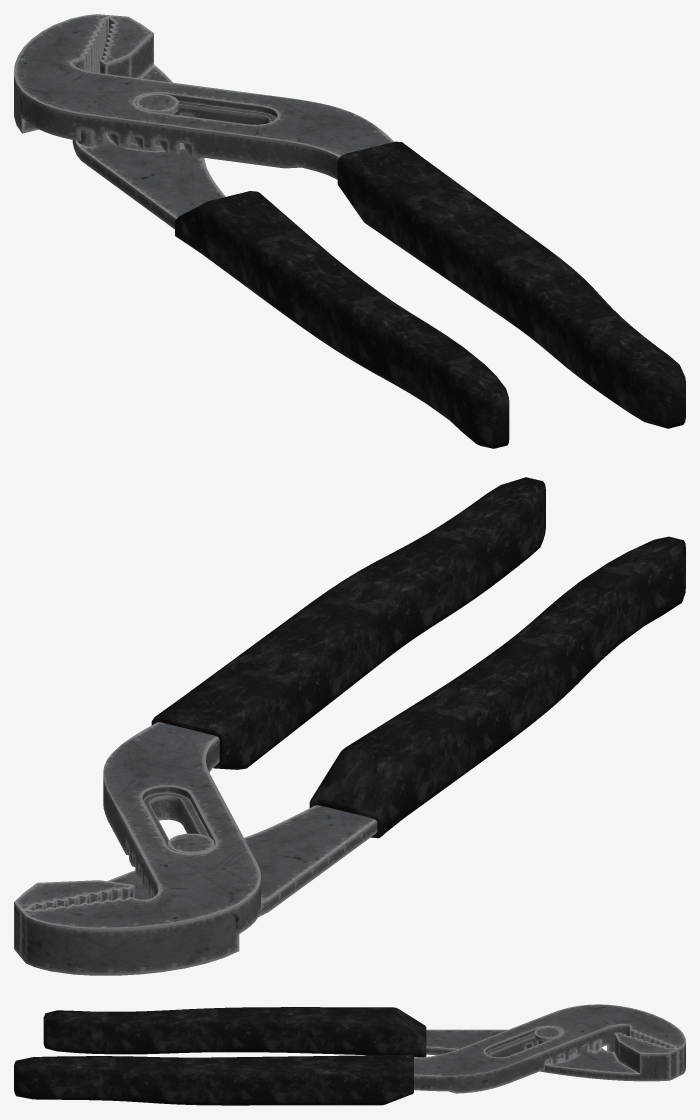
Rendered from tongue_groove_pliers.fbx.
3 renders of one model, top to bottom at view 1: azimuth 30°, elevation 25°; view 2: azimuth 150°, elevation 25°; view 3: azimuth 270°, elevation 25°, orthographic. The views are drawn at different scales.
Parts seen in each view (by area): view 1: tongue_groove_pliers_r.001, tongue_groove_pliers_l.001; view 2: tongue_groove_pliers_r.001, tongue_groove_pliers_l.001; view 3: tongue_groove_pliers_r.001, tongue_groove_pliers_l.001.
Boxes of the visible parts, bbox=[...] form: tongue_groove_pliers_r.001: bbox=[14, 14, 685, 428]; tongue_groove_pliers_l.001: bbox=[72, 15, 509, 448]; tongue_groove_pliers_r.001: bbox=[21, 477, 545, 975]; tongue_groove_pliers_l.001: bbox=[14, 536, 685, 956]; tongue_groove_pliers_r.001: bbox=[14, 1004, 685, 1105]; tongue_groove_pliers_l.001: bbox=[43, 1007, 677, 1081].
Size of the model in its own units: 6.25 by 1.39 by 24.44.
